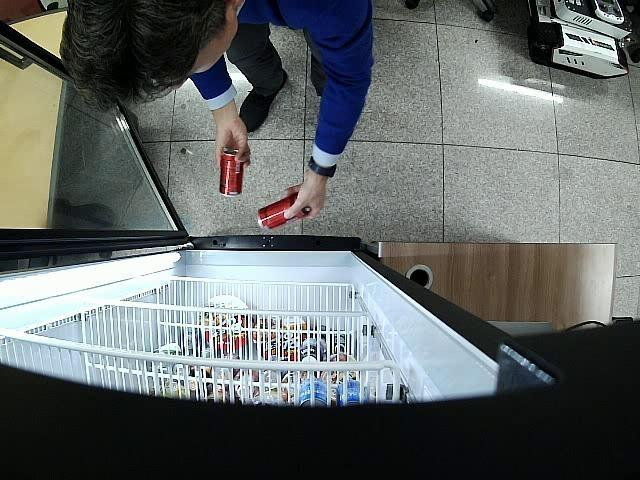11_cocaColaZero: (258, 193, 312, 229), (218, 150, 244, 198)
